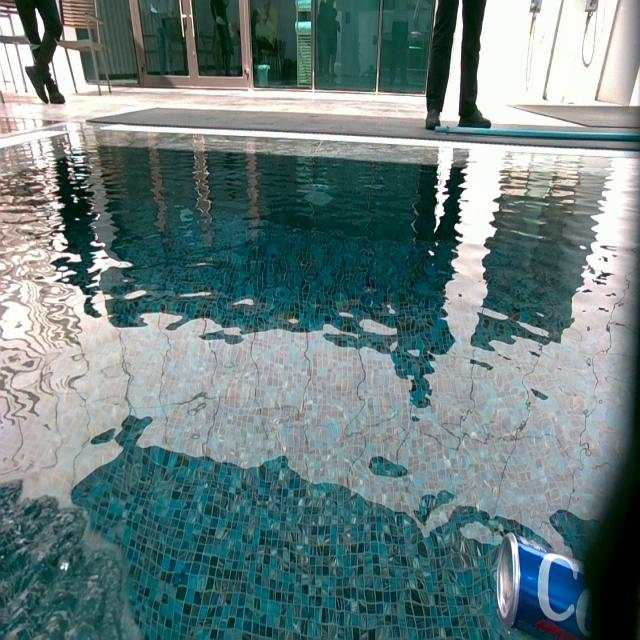Cans: (493, 531, 594, 640)
